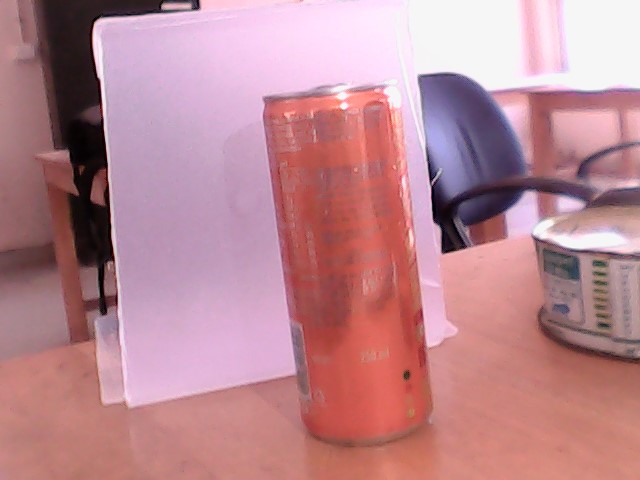Metal: (232, 91, 474, 480)
